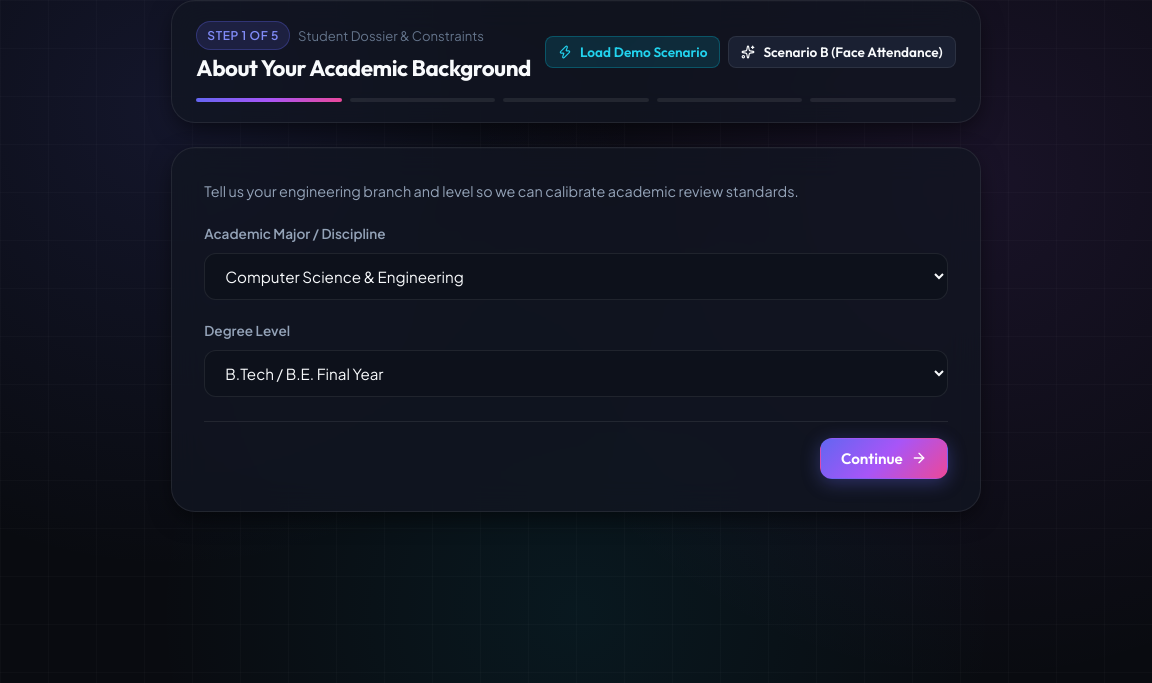
Test: Milestone 2 & 3 - Frontend Test Suite › renders skill sliders and reflects proficiency adjustments
Navigate to Step 2
Click the button "Continue".
click(884, 458)  # box [820,438,948,479]
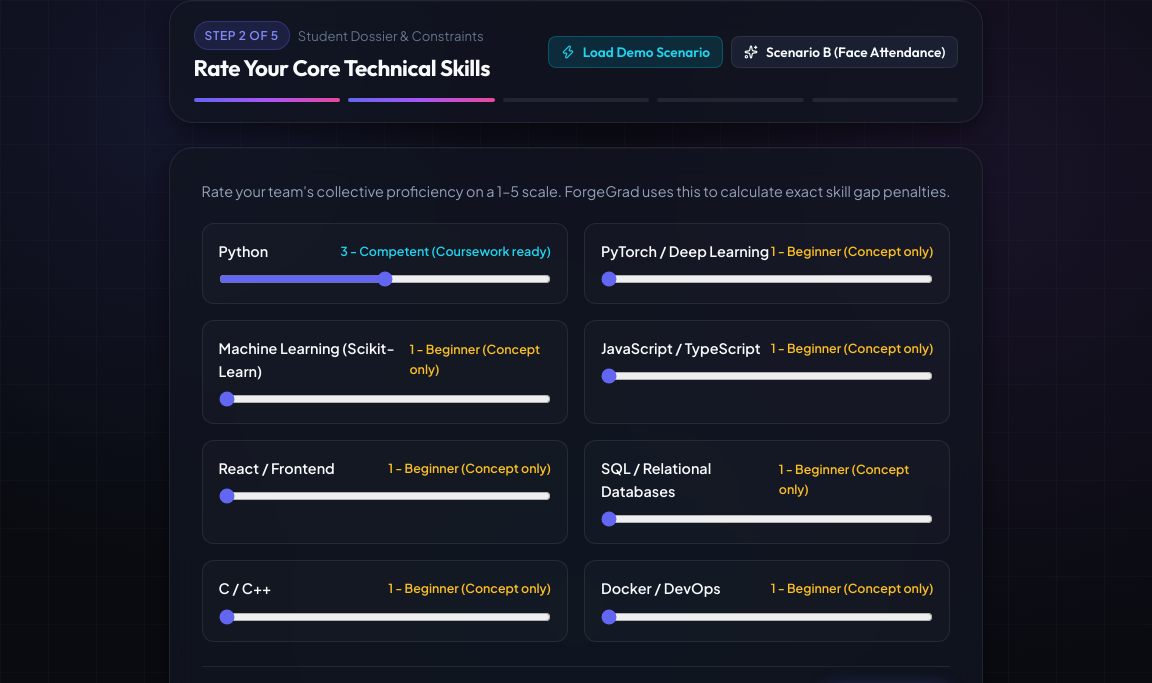
Expected: the text "PyTorch / Deep Learning" is shown, [601,240,769,263]
